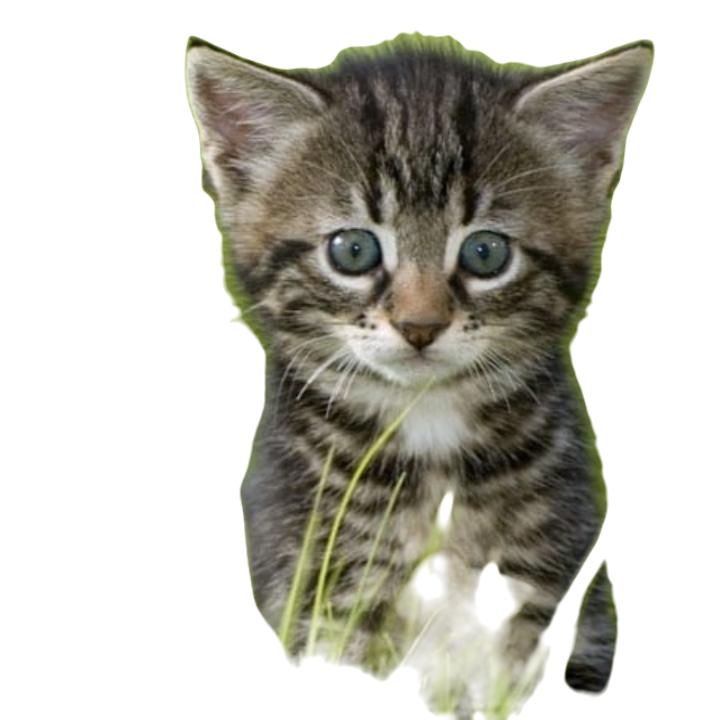Cat: (165, 13, 659, 718)
